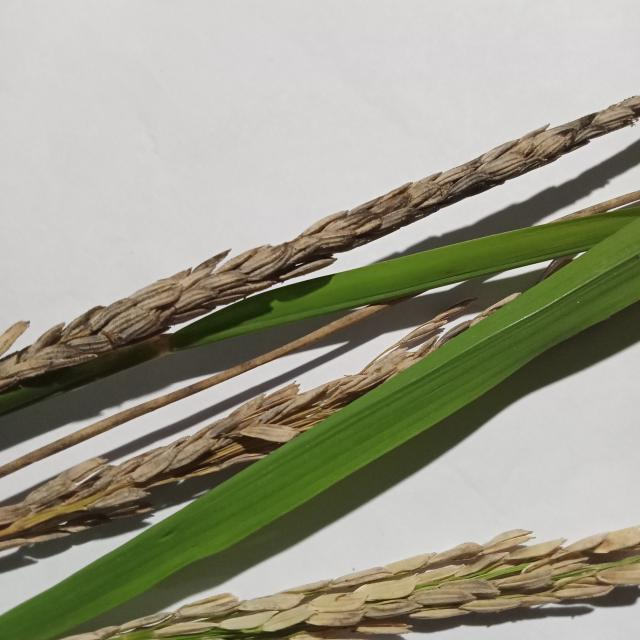Neck_Blast: (0, 92, 640, 390), (0, 316, 462, 550), (62, 523, 640, 640)
